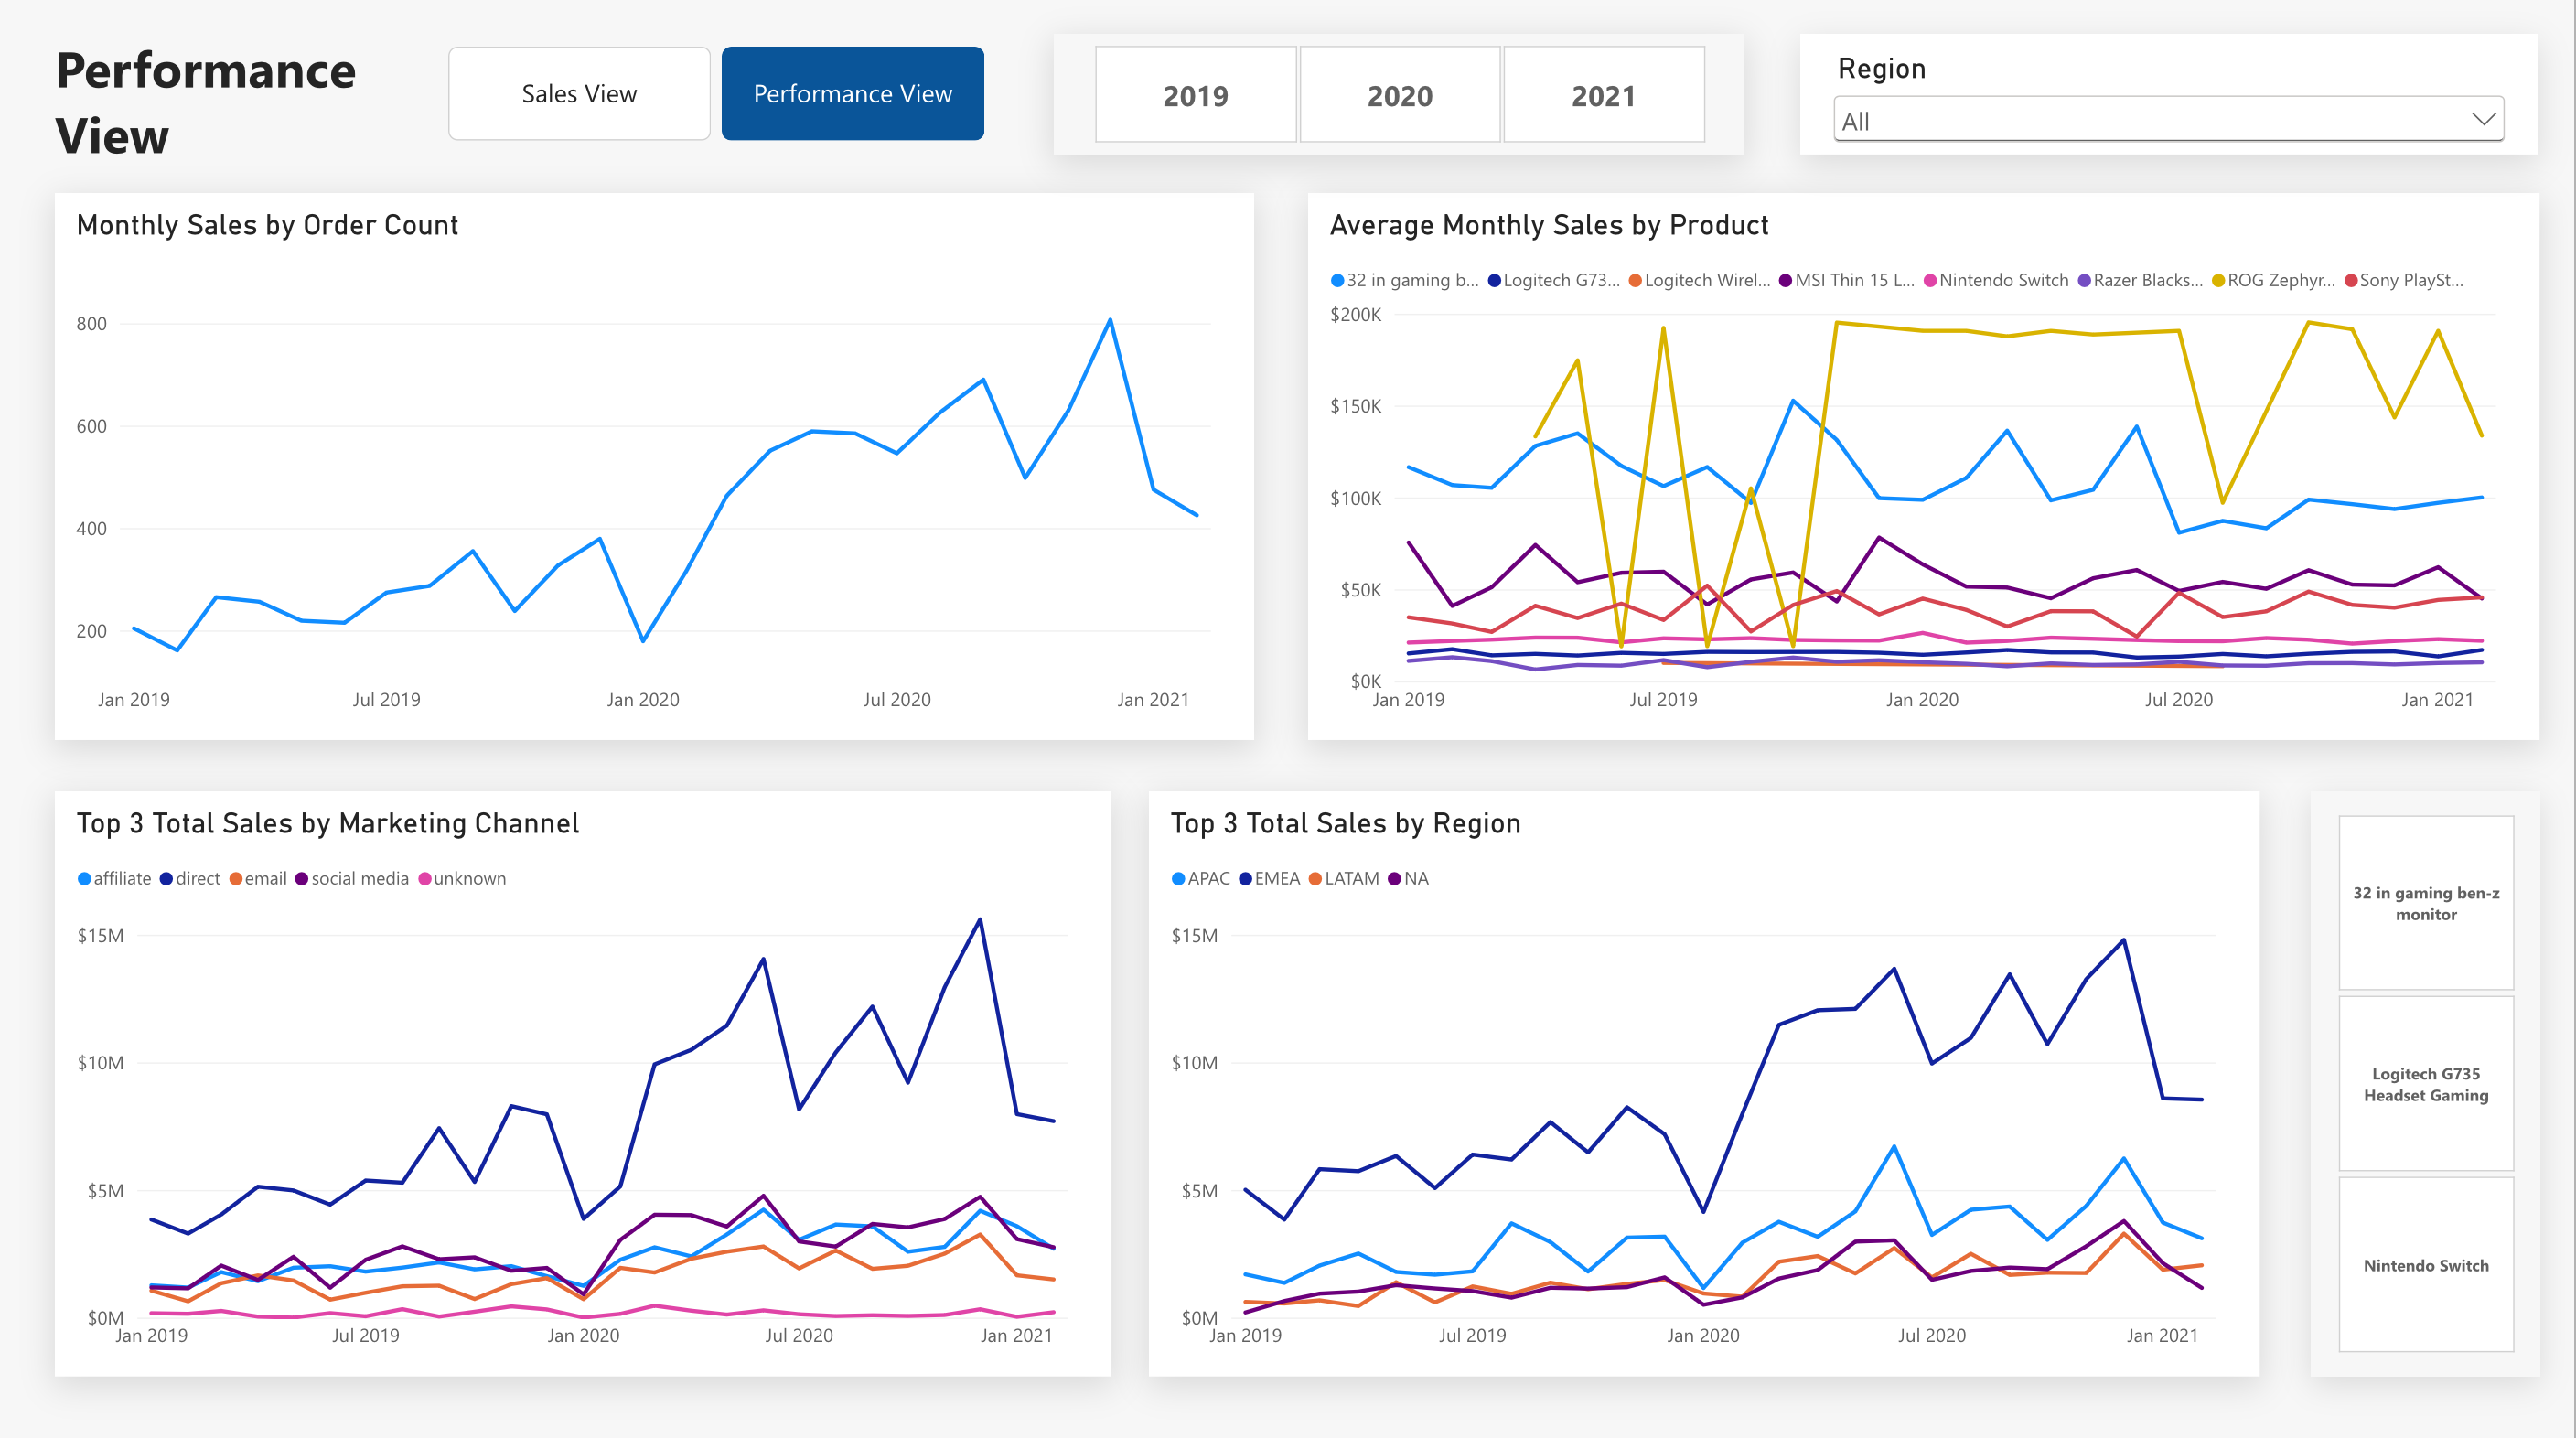

This screenshot's page, from the dashboard's own definition file:
{"tool":"powerbi","page":{"name":"Performance View","canvas":[1920,1080],"ordinal":1},"visuals":[{"type":"lineChart","title":"Monthly Sales by Order Count","fields":{"Category":["orders.purchase_date_cleaned.Variation.Date Hierarchy.Year","orders.purchase_date_cleaned.Variation.Date Hierarchy.Month"],"Y":["Count(orders.order_id)"]},"box":[40.3,144.8,894.7,408.2],"z":0},{"type":"lineChart","title":"Top 3 Total Sales by Marketing Channel","fields":{"Category":["orders.purchase_date_cleaned.Variation.Date Hierarchy.Year","orders.purchase_date_cleaned.Variation.Date Hierarchy.Month"],"Series":["orders.channel_cleaned"],"Y":["Sum(orders.price ($))"]},"box":[40.3,591,787.9,436.7],"z":1000},{"type":"lineChart","title":"Average Monthly Sales by Product ","fields":{"Category":["orders.purchase_date_cleaned.Variation.Date Hierarchy.Year","orders.purchase_date_cleaned.Variation.Date Hierarchy.Month"],"Series":["orders.product_name_cleaned"],"Y":["Avg(orders.price ($))"]},"box":[975.4,144.8,918.5,408.2],"z":2000},{"type":"lineChart","title":"Top 3 Total Sales by Region","fields":{"Category":["orders.purchase_date_cleaned.Variation.Date Hierarchy.Year","orders.purchase_date_cleaned.Variation.Date Hierarchy.Month"],"Series":["region.region"],"Y":["Sum(orders.price ($))"]},"box":[856.8,591,828.3,436.7],"z":3000},{"type":"textbox","box":[40.3,26.1,294.3,118.7],"z":4000},{"type":"slicer","title":"Year","fields":{"Values":["orders.purchase_date_cleaned.Variation.Date Hierarchy.Year"]},"box":[785.6,26.1,515,90.2],"z":8000},{"type":"slicer","fields":{"Values":["region.region"]},"box":[1343.3,26.1,550.6,90.2],"z":9000},{"type":"pageNavigator","box":[334.6,35.6,400,70],"z":10000},{"type":"slicer","title":"Product","fields":{"Values":["orders.product_name_cleaned"]},"box":[1723,591,170.9,436.7],"z":10001}]}

Visuals, with their boxes in screenshot pixels (x1, y1, x2, y2), scaled from the page's 1920x1080 canvas onto the 2576x1438 screenshot:
"Monthly Sales by Order Count" lineChart: crop(54, 193, 1254, 736)
"Top 3 Total Sales by Marketing Channel" lineChart: crop(54, 787, 1111, 1368)
"Average Monthly Sales by Product " lineChart: crop(1309, 193, 2541, 736)
"Top 3 Total Sales by Region" lineChart: crop(1150, 787, 2260, 1368)
textbox: crop(54, 35, 449, 193)
"Year" slicer: crop(1054, 35, 1745, 155)
slicer - region.region: crop(1802, 35, 2541, 155)
pageNavigator: crop(449, 48, 985, 141)
"Product" slicer: crop(2312, 787, 2541, 1368)
